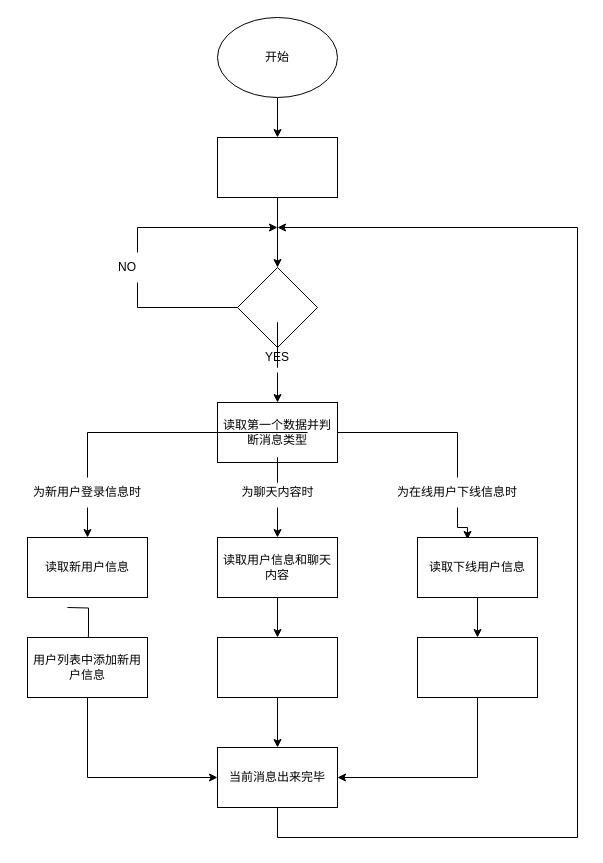
Image size: 603x863. Some labels were removed from this diagram. The box of each missing label's shape, as (x1, y1, x2, y2) in pixels:
定义UDP Scoket并绑定客户端指定的IP接口: (216, 136, 338, 198)
接口是否有报文需要读取？: (236, 266, 318, 348)
用户列表中删除下线用户信息: (416, 636, 538, 698)
聊天窗口中显示聊天内容: (216, 636, 338, 698)
